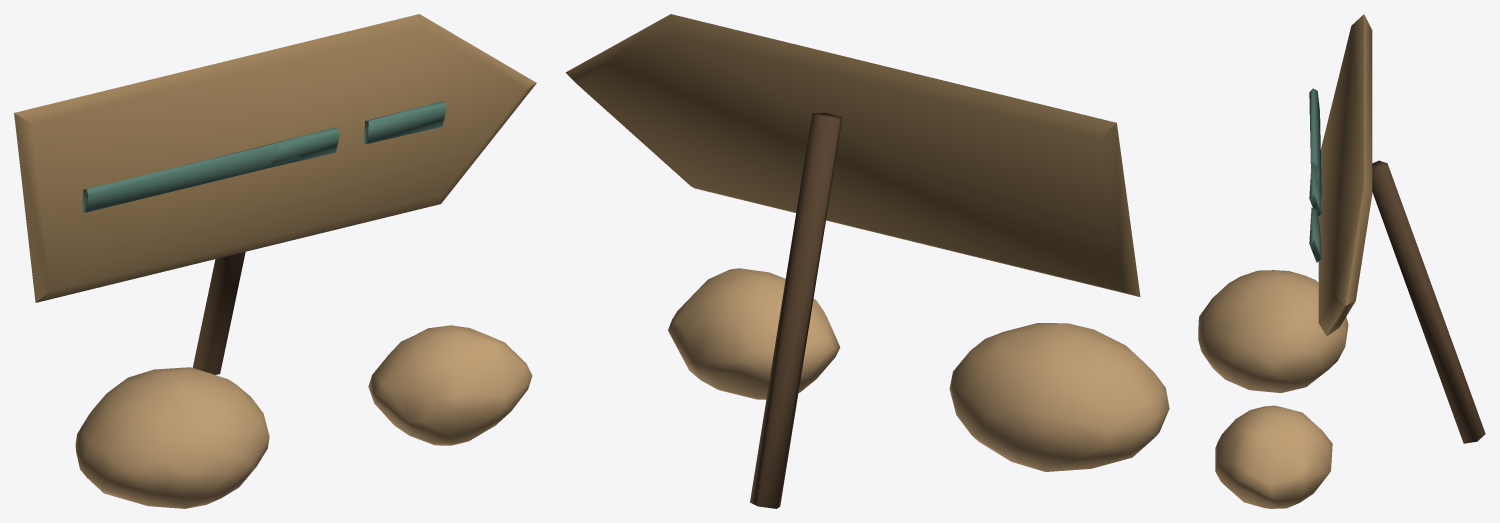
Rendered from crew_sign_a_lod1.glb.
The picture shows the model from 3 angles, left to right: view 1: azimuth 30°, elevation 25°; view 2: azimuth 150°, elevation 25°; view 3: azimuth 270°, elevation 25°; orthographic projection. The views are drawn at different scales.
Parts seen in each view (by area): view 1: Surface.001; view 2: Surface.001; view 3: Surface.001.
Boxes of the visible parts, x1,y1,x2,y2 form: Surface.001: (14, 14, 536, 508); Surface.001: (565, 14, 1169, 508); Surface.001: (1198, 14, 1485, 508).
Size of the model in its own units: 1.2 by 0.8454 by 0.6732.
